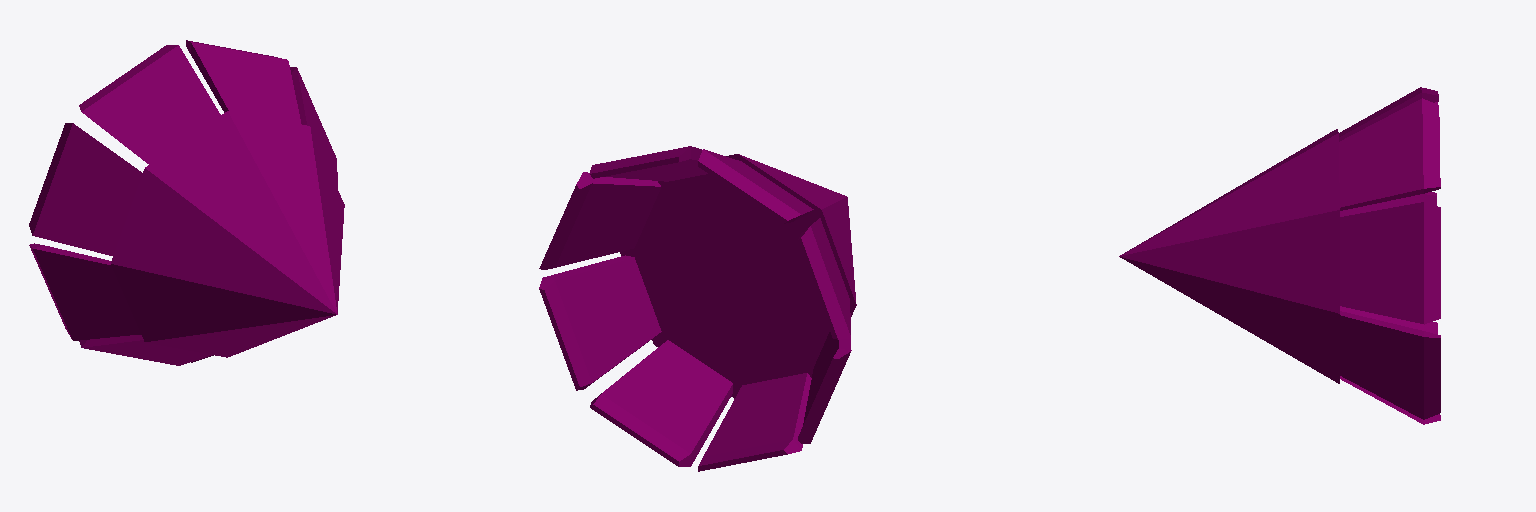
File: Mines.obj
The picture shows the model from 3 angles: view 1: azimuth 30°, elevation 25°; view 2: azimuth 150°, elevation 25°; view 3: azimuth 270°, elevation 25°; orthographic projection.
Parts seen in each view (by area): view 1: Cone001; view 2: Cone001; view 3: Cone001.
Boxes of the visible parts, x1,y1,x2,y2 form: Cone001: [29, 40, 344, 365]; Cone001: [539, 146, 856, 471]; Cone001: [1119, 87, 1440, 424].
Size of the model in its own units: 2.98 by 2.98 by 2.71.